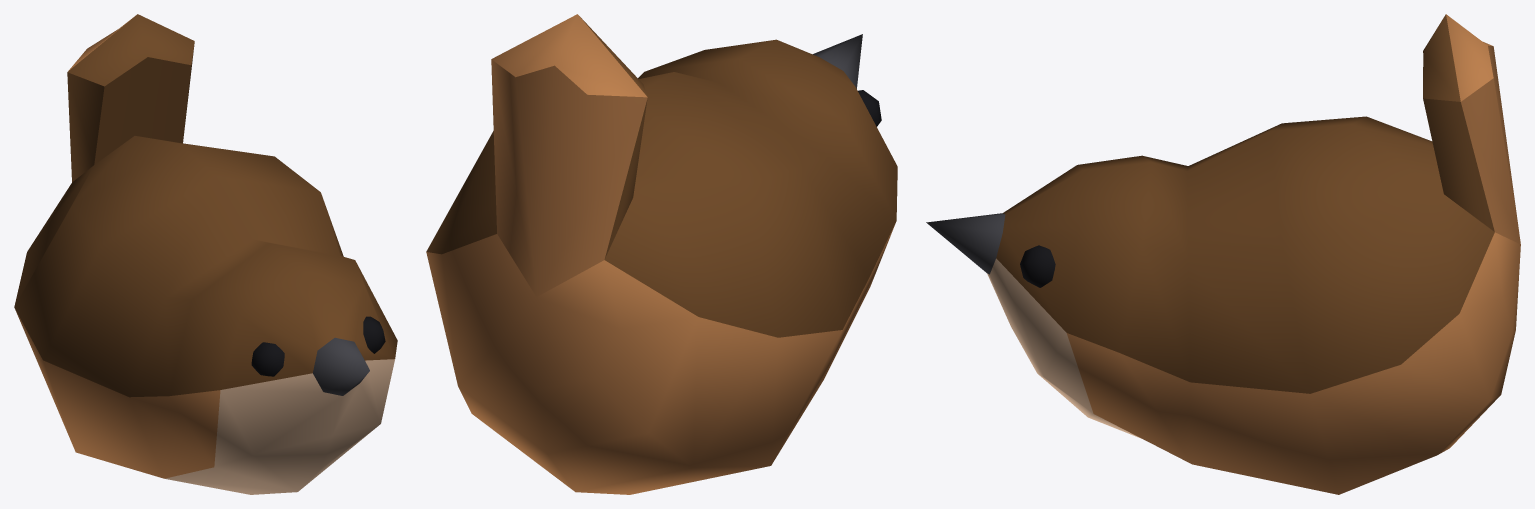
The model's file is Bird_2.glb.
The picture shows the model from 3 angles, left to right: view 1: azimuth 30°, elevation 25°; view 2: azimuth 150°, elevation 25°; view 3: azimuth 270°, elevation 25°; orthographic projection. The views are drawn at different scales.
Visible parts, largest first — view 1: Bird_2; view 2: Bird_2; view 3: Bird_2.
Part boxes in pixels (x1,y1,x2,y2): Bird_2: (14, 14, 397, 494); Bird_2: (426, 14, 897, 494); Bird_2: (926, 14, 1520, 494).
Size of the model in its own units: 0.1339 by 0.1743 by 0.1986.
Materials: 1 (1 with a texture image).
